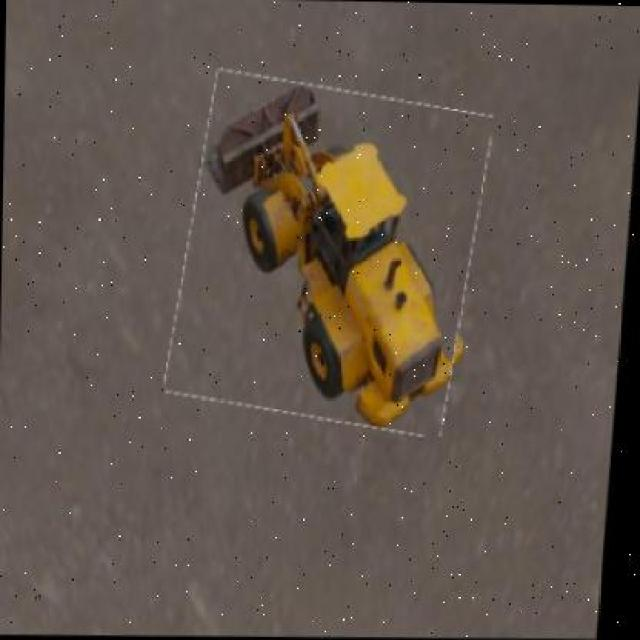buldozerpayloadergrader: (199, 78, 455, 428)
